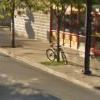Bicycle: (43, 41, 69, 67)
